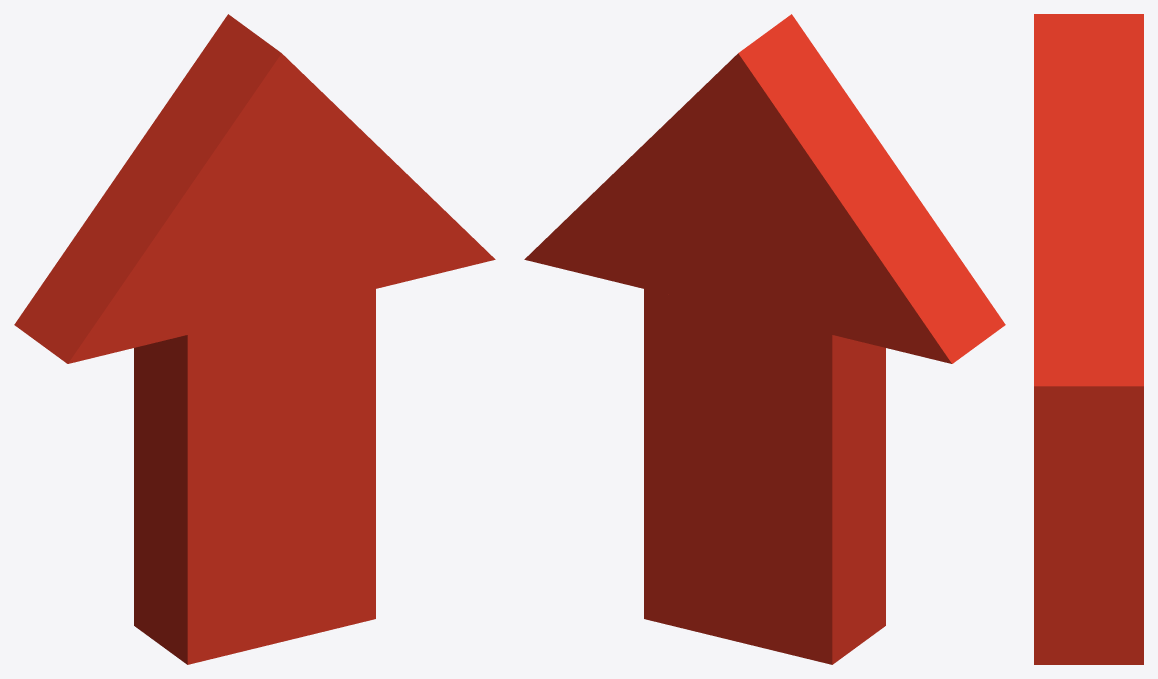
The model's file is Icon_Arrow_04.fbx.
3 renders of one model, left to right at view 1: azimuth 30°, elevation 25°; view 2: azimuth 150°, elevation 25°; view 3: azimuth 270°, elevation 25°, orthographic. The views are drawn at different scales.
Parts seen in each view (by area): view 1: Icon_Arrow_04; view 2: Icon_Arrow_04; view 3: Icon_Arrow_04.
Boxes of the visible parts, x1,y1,x2,y2 form: Icon_Arrow_04: (14,14,495,664); Icon_Arrow_04: (524,14,1005,664); Icon_Arrow_04: (1034,14,1143,664).
Size of the model in its own units: 55.68 by 73.18 by 12.06.
